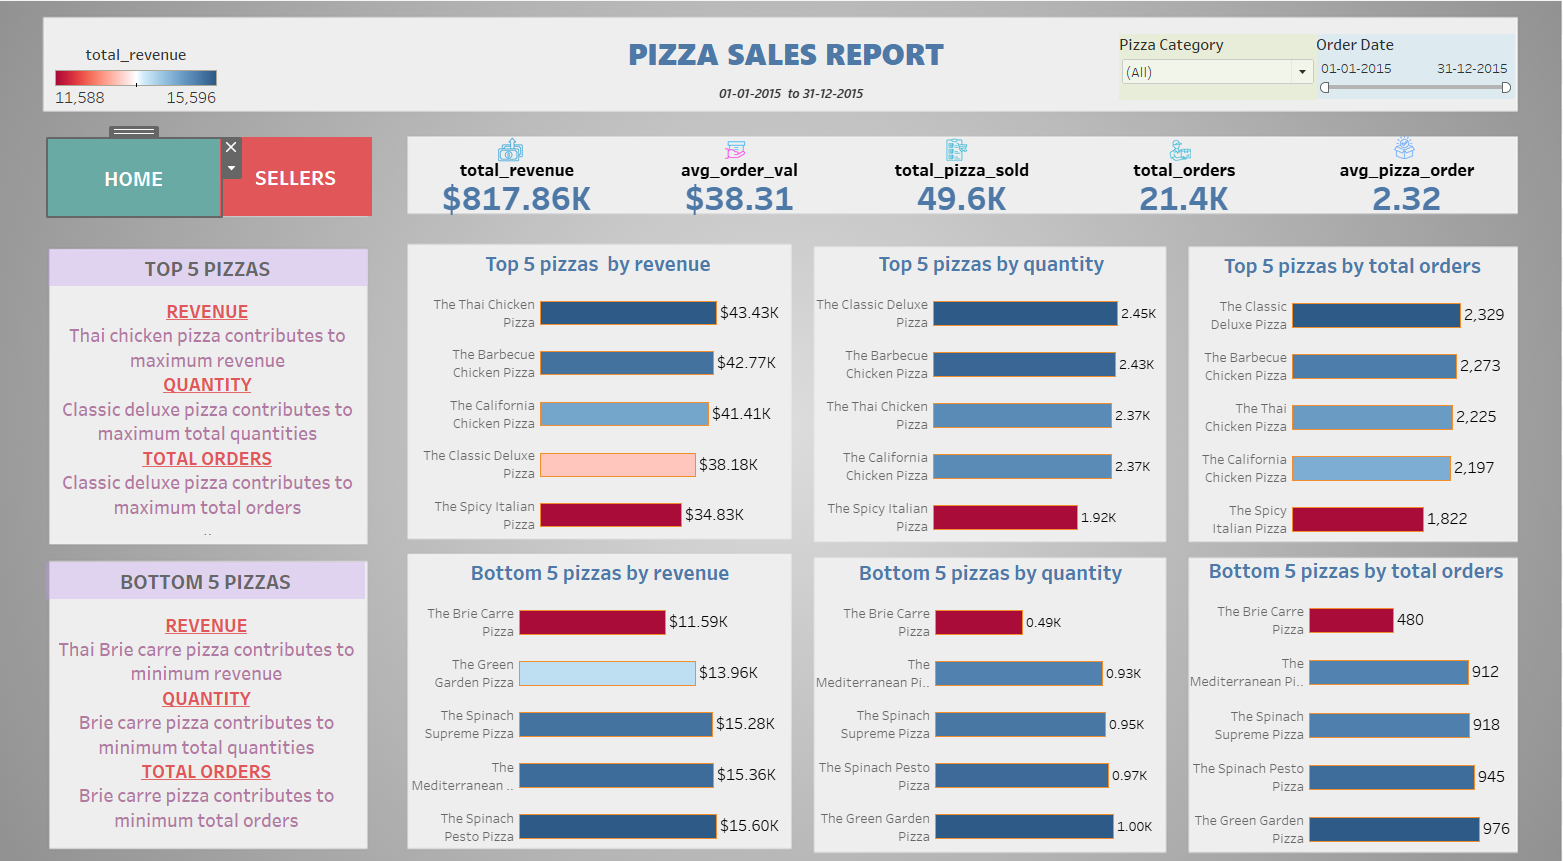

The page's visual inventory and layout, read from the dashboard file:
{"tool":"tableau","page":{"name":"best worst seller","canvas":[1600,900],"ordinal":1},"visuals":[{"type":"image","param":"C:/Users/Dhruv/OneDrive - somaiya.edu/Pictures/Screenshot 2024-03-26 191333.png","box":[8,8,1584,884]},{"type":"text","box":[29,39,1538,78]},{"type":"filter","title":"Sheet 7","param":"[federated.08zf9230ml47uw1a5tvt80p6vtxv].[none:pizza_category:nk]","box":[1131,59,198,66]},{"type":"filter","title":"Sheet 7","param":"[federated.08zf9230ml47uw1a5tvt80p6vtxv].[none:order_date:qk]","box":[1328,59,199,65]},{"type":"legend","title":"Sheet 8 (2)","param":"[federated.08zf9230ml47uw1a5tvt80p6vtxv].[usr:Calculation_738871813884252160:qk]","box":[63,69,170,65]},{"type":"worksheet","title":"Sheet 7","mark":"Automatic","box":[606,98,395,40]},{"type":"image","param":"D:/Downloads/Pizza Sales Images-20240324T122740Z-001/Pizza Sales Images/order (1","box":[1404,159,24,27]},{"type":"image","param":"D:/Downloads/Pizza Sales Images-20240324T122740Z-001/Pizza Sales Images/profit-g","box":[506,160,32,28]},{"type":"dashboard-object","box":[232,162,152,79]},{"type":"image","param":"D:/Downloads/Pizza Sales Images-20240324T122740Z-001/Pizza Sales Images/shipping","box":[733,163,27,23]},{"type":"image","param":"D:/Downloads/Pizza Sales Images-20240324T122740Z-001/Pizza Sales Images/order-de","box":[956,163,26,23]},{"type":"dashboard-object","box":[60,164,173,77]},{"type":"image","param":"D:/Downloads/Pizza Sales Images-20240324T122740Z-001/Pizza Sales Images/delivery","box":[1179,164,27,22]},{"type":"worksheet","title":"kpi","mark":"Automatic","box":[418,184,1112,56]},{"type":"worksheet","title":"Sheet 8","mark":"Automatic","rows":["pizza_name"],"cols":["Calculation_738871813884252160"],"box":[416,270,388,295]},{"type":"worksheet","title":"Sheet 8 (3)","mark":"Automatic","rows":["pizza_name"],"cols":["Calculation_738871813885161475"],"box":[825,270,357,297]},{"type":"worksheet","title":"Sheet 8 (6)","mark":"Automatic","rows":["pizza_name"],"cols":["Calculation_738871813884829697"],"box":[1200,272,329,297]},{"type":"text","box":[60,274,319,37]},{"type":"text","box":[59,321,321,251]},{"type":"worksheet","title":"Sheet 8 (5)","mark":"Automatic","rows":["pizza_name"],"cols":["Calculation_738871813884829697"],"box":[1201,577,334,303]},{"type":"worksheet","title":"Sheet 8 (2)","mark":"Automatic","rows":["pizza_name"],"cols":["Calculation_738871813884252160"],"box":[419,579,386,298]},{"type":"worksheet","title":"Sheet 8 (4)","mark":"Automatic","rows":["pizza_name"],"cols":["Calculation_738871813885161475"],"box":[827,579,351,298]},{"type":"text","box":[58,587,319,37]},{"type":"text","box":[58,623,321,253]}]}

Visuals, with their boxes in screenshot pixels (x1, y1, x2, y2), scaled from the page's 1600x900 canvas onto the 1563x861 screenshot:
image: box(8, 8, 1555, 853)
text: box(28, 37, 1531, 112)
"Sheet 7" filter: box(1105, 56, 1298, 120)
"Sheet 7" filter: box(1297, 56, 1492, 119)
"Sheet 8 (2)" legend: box(62, 66, 228, 128)
"Sheet 7" worksheet: box(592, 94, 978, 132)
image: box(1372, 152, 1395, 178)
image: box(494, 153, 526, 180)
dashboard-object: box(227, 155, 375, 231)
image: box(716, 156, 742, 178)
image: box(934, 156, 959, 178)
dashboard-object: box(59, 157, 228, 231)
image: box(1152, 157, 1178, 178)
"kpi" worksheet: box(408, 176, 1495, 230)
"Sheet 8" worksheet: box(406, 258, 785, 541)
"Sheet 8 (3)" worksheet: box(806, 258, 1155, 542)
"Sheet 8 (6)" worksheet: box(1172, 260, 1494, 544)
text: box(59, 262, 370, 298)
text: box(58, 307, 371, 547)
"Sheet 8 (5)" worksheet: box(1173, 552, 1500, 842)
"Sheet 8 (2)" worksheet: box(409, 554, 786, 839)
"Sheet 8 (4)" worksheet: box(808, 554, 1151, 839)
text: box(57, 562, 368, 597)
text: box(57, 596, 370, 838)
